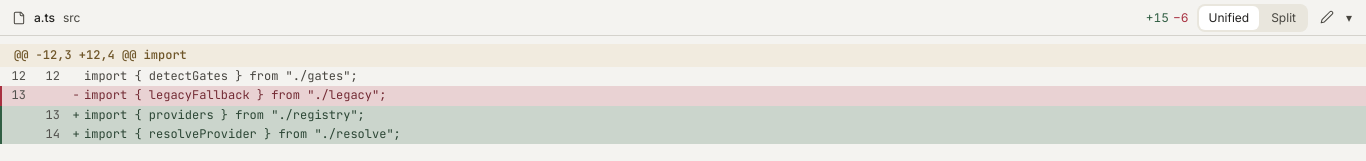
Test case: DiffTab › remembers the mode when another Diff tab mounts
Click the button with class "diff-tab-seg-button" showing "Split" at (1284, 18), box x1=1261 y1=6 x2=1306 y2=30
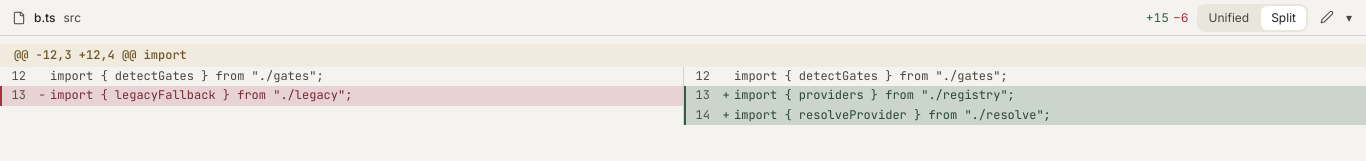
expect the number of elements with class "diff-tab-split-row" is 3: met, box x1=0 y1=67 x2=1365 y2=86; x1=0 y1=86 x2=1365 y2=106; x1=683 y1=106 x2=1365 y2=125
